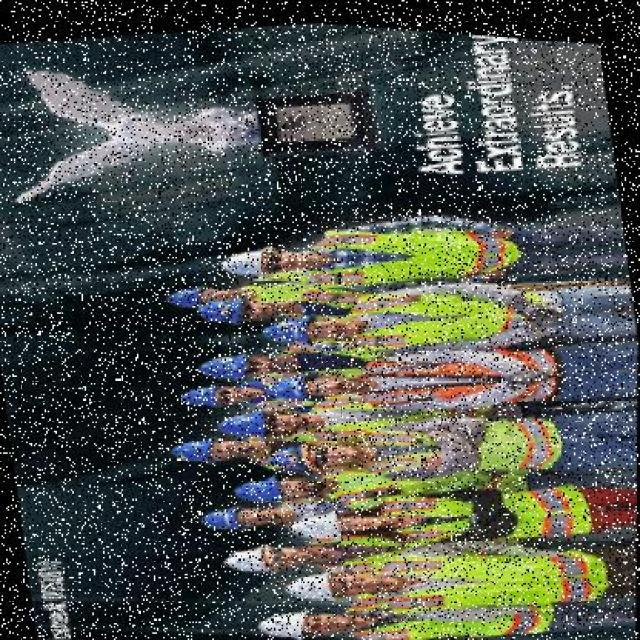helmet: (254, 301, 328, 349), (281, 494, 347, 542), (211, 237, 275, 279), (252, 596, 314, 639), (220, 534, 282, 576), (231, 463, 289, 505), (265, 431, 323, 473), (285, 559, 336, 602), (189, 345, 253, 379), (260, 362, 314, 402), (215, 402, 271, 440), (162, 429, 220, 465), (192, 291, 250, 323), (202, 499, 247, 534), (180, 376, 225, 408), (169, 282, 207, 304)
vest: (345, 260, 559, 354), (391, 523, 602, 611), (377, 463, 591, 549), (314, 203, 525, 289), (352, 401, 552, 481), (377, 329, 561, 407), (366, 579, 537, 639)
